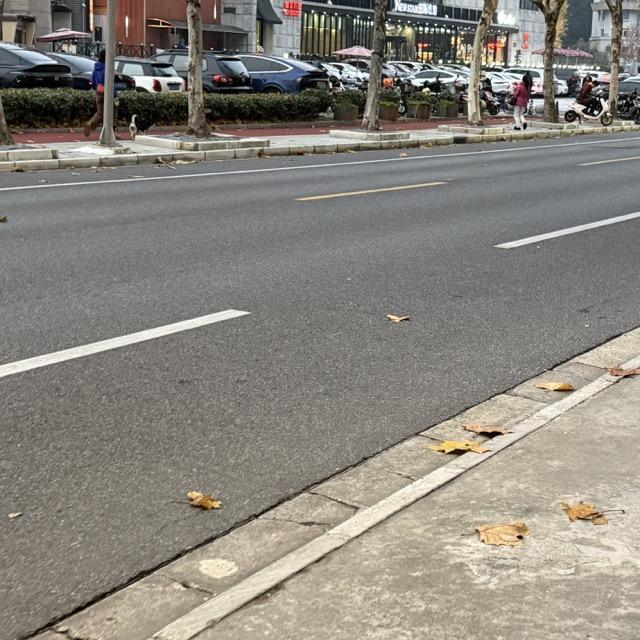curb: (150, 378, 615, 639), (0, 133, 572, 171)
